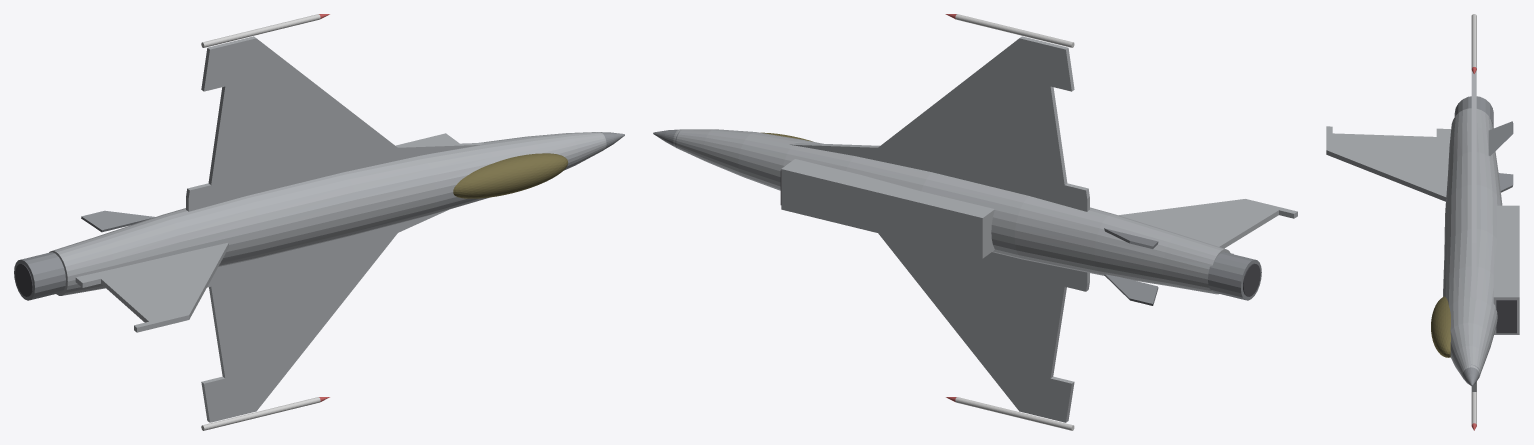
The model's file is f16sim_body.glb.
The picture shows the model from 3 angles, left to right: view 1: azimuth 30°, elevation 25°; view 2: azimuth 150°, elevation 25°; view 3: azimuth 270°, elevation 25°; orthographic projection. The views are drawn at different scales.
Parts seen in each view (by area): view 1: part0, part5, part6, part11, part4, part14, part12, part7, part9; view 2: part0, part5, part6, part2, part11, part14, part13, part7, part9; view 3: part0, part11, part2, part5, part4, part3, part12, part14, part7, part1, part13, part9.
Part boxes in pixels (x1,y1,x2,y2): part0: (49,132,606,295); part5: (186,36,483,211); part6: (201,209,448,422); part11: (75,242,228,332); part4: (453,153,568,198); part14: (14,252,65,300); part12: (81,210,154,232); part7: (201,14,320,47); part9: (201,397,320,430); part0: (673,129,1230,294); part5: (790,36,1089,211); part6: (878,233,1089,422); part2: (781,159,994,258); part11: (1118,199,1297,254); part14: (1208,252,1261,300); part13: (1104,274,1158,305); part7: (955,14,1074,47); part9: (955,397,1074,430); part0: (1443,108,1502,378); part11: (1326,126,1451,201); part2: (1493,205,1519,334); part5: (1471,70,1476,300); part4: (1431,296,1450,357); part3: (1496,300,1516,333); part12: (1488,121,1513,155); part14: (1454,96,1493,128); part7: (1471,14,1476,68); part1: (1462,364,1480,386); part13: (1498,173,1513,192); part9: (1471,381,1476,424).
Bounding box in the file's own units: 15.47 × 9.57 × 4.64.
